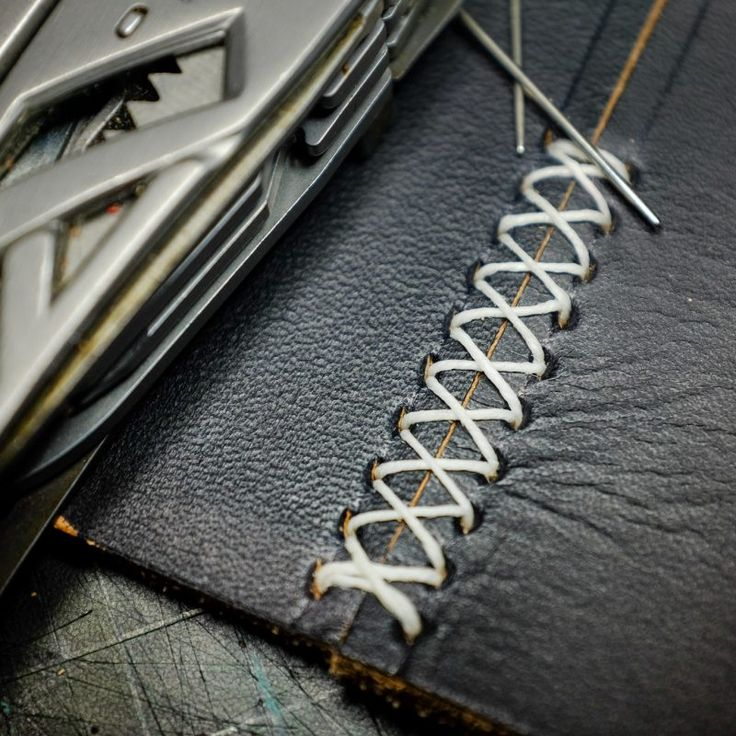cuero: (58, 5, 736, 736)
